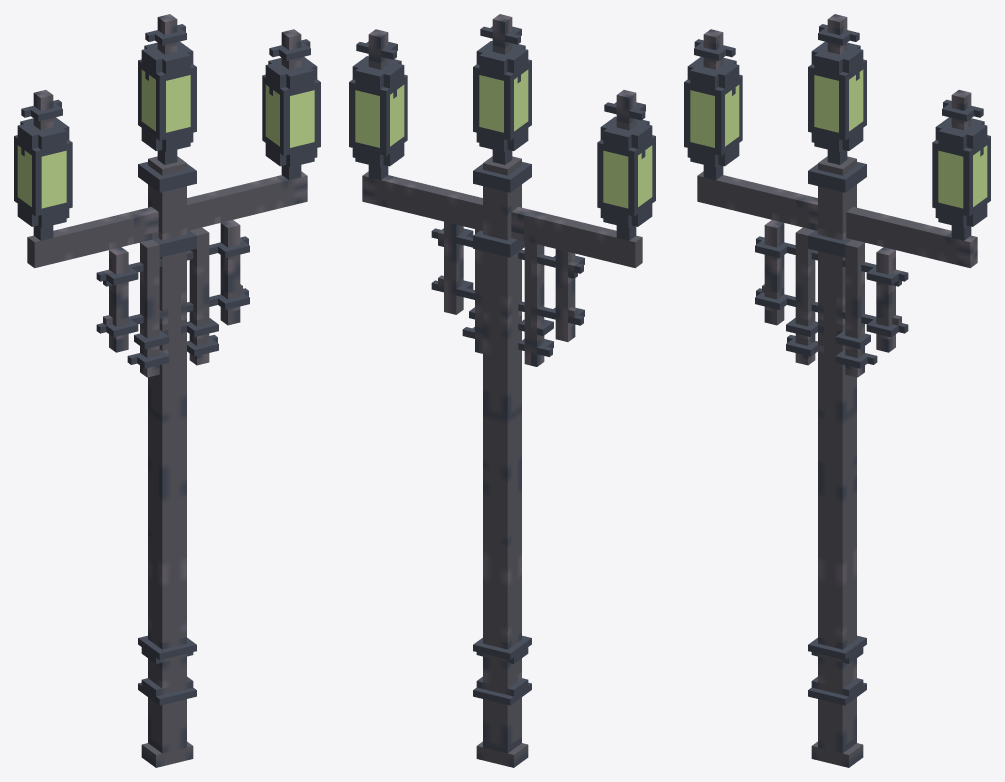
The model's file is LightPole-0.fbx.
3 renders of one model, left to right at view 1: azimuth 30°, elevation 25°; view 2: azimuth 150°, elevation 25°; view 3: azimuth 330°, elevation 25°, orthographic.
Visible parts, largest first — view 1: LightPole-0; view 2: LightPole-0; view 3: LightPole-0.
Part boxes in pixels (x1,y1,x2,y2): LightPole-0: (14,14,320,767); LightPole-0: (349,14,655,767); LightPole-0: (684,14,990,767).
Bounding box in the file's own units: 230 × 570 × 35.
